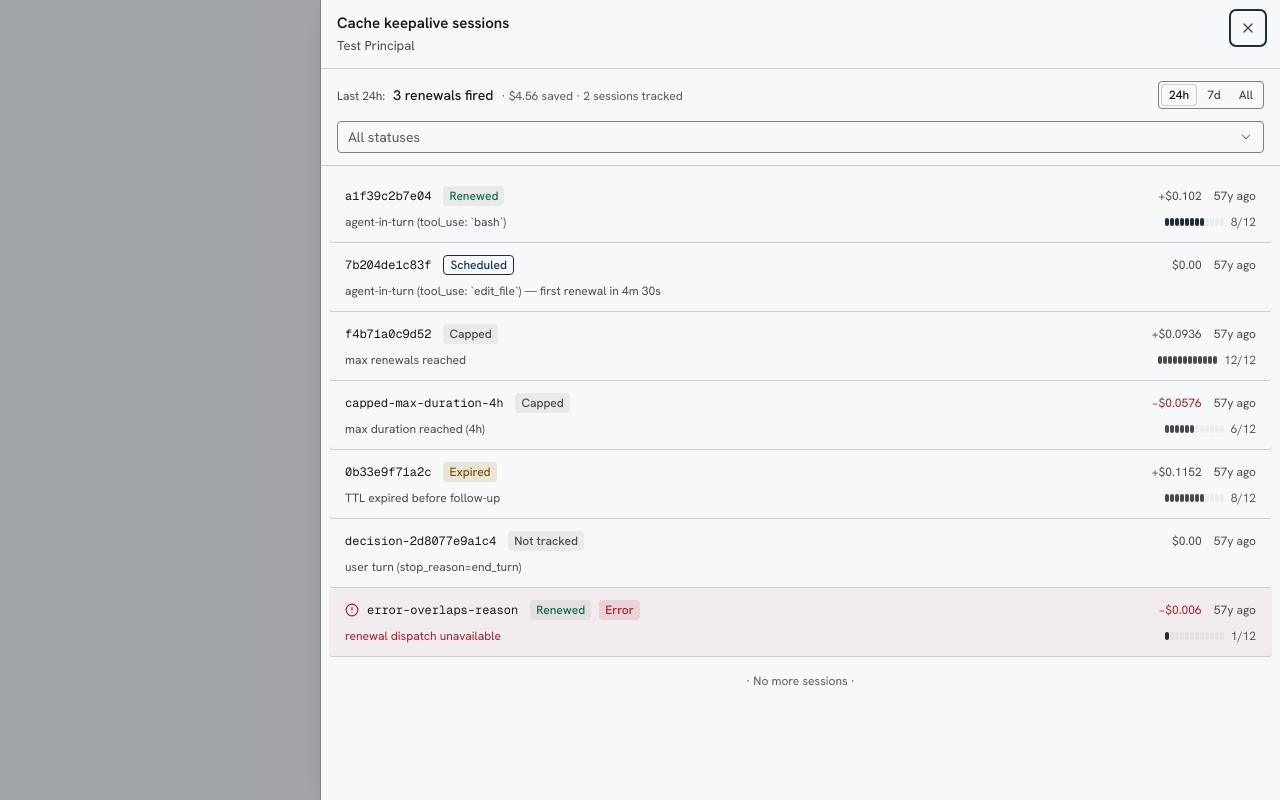
Test: CacheKeepaliveSessionsDrawer › status filter is a select that narrows the sessions query
The width and height of the screenshot is (1280, 800).
Click the dropdown named "Session status": click(384, 137) [337,121,1264,153]
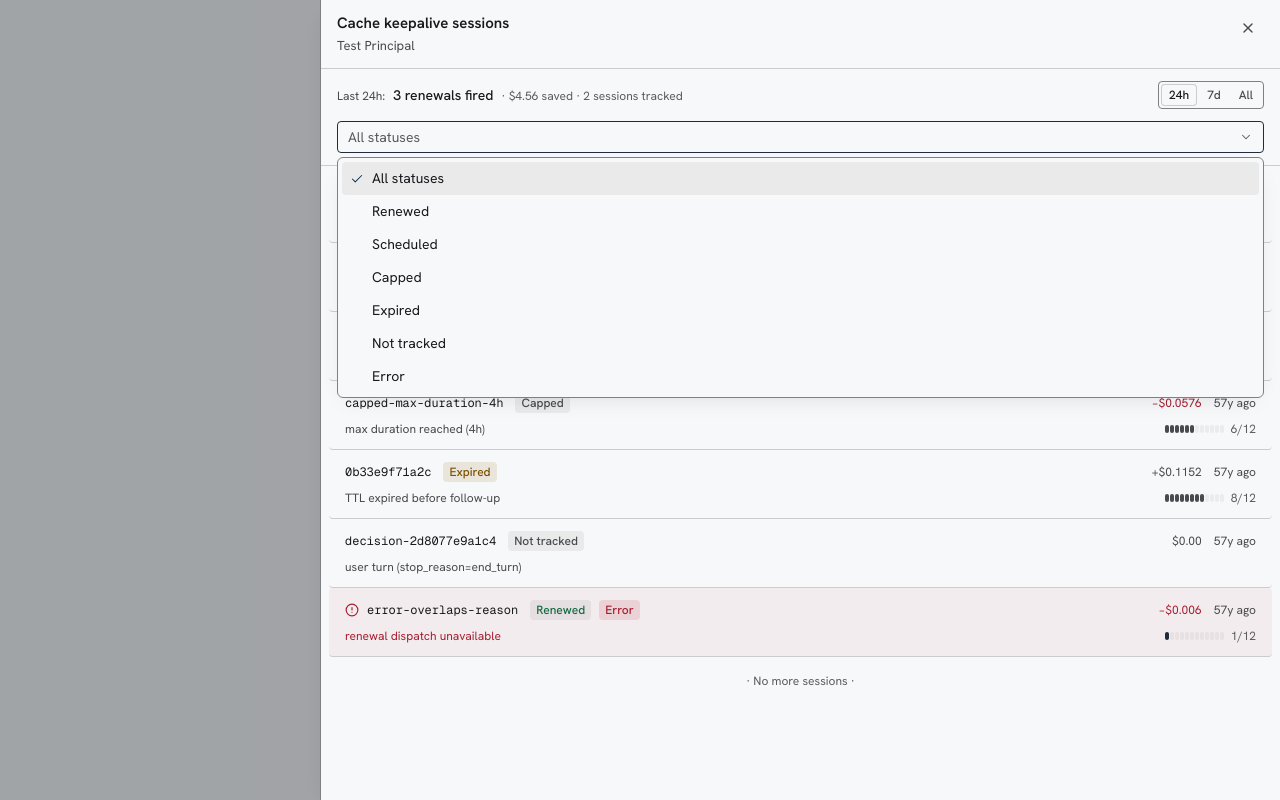
Click the option "Renewed": click(401, 211) [372,202,429,220]
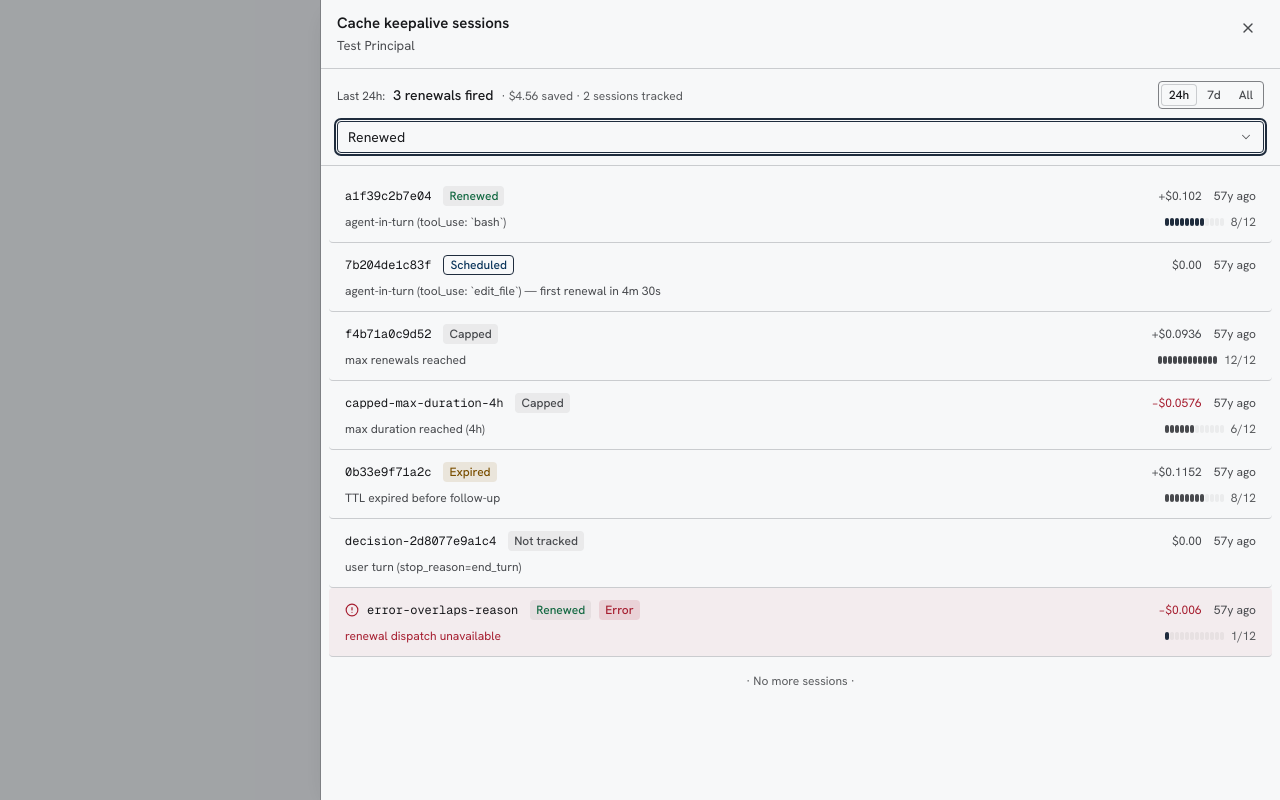
Now the dropdown named "Session status" reads "Renewed", box [337,121,1264,153]
